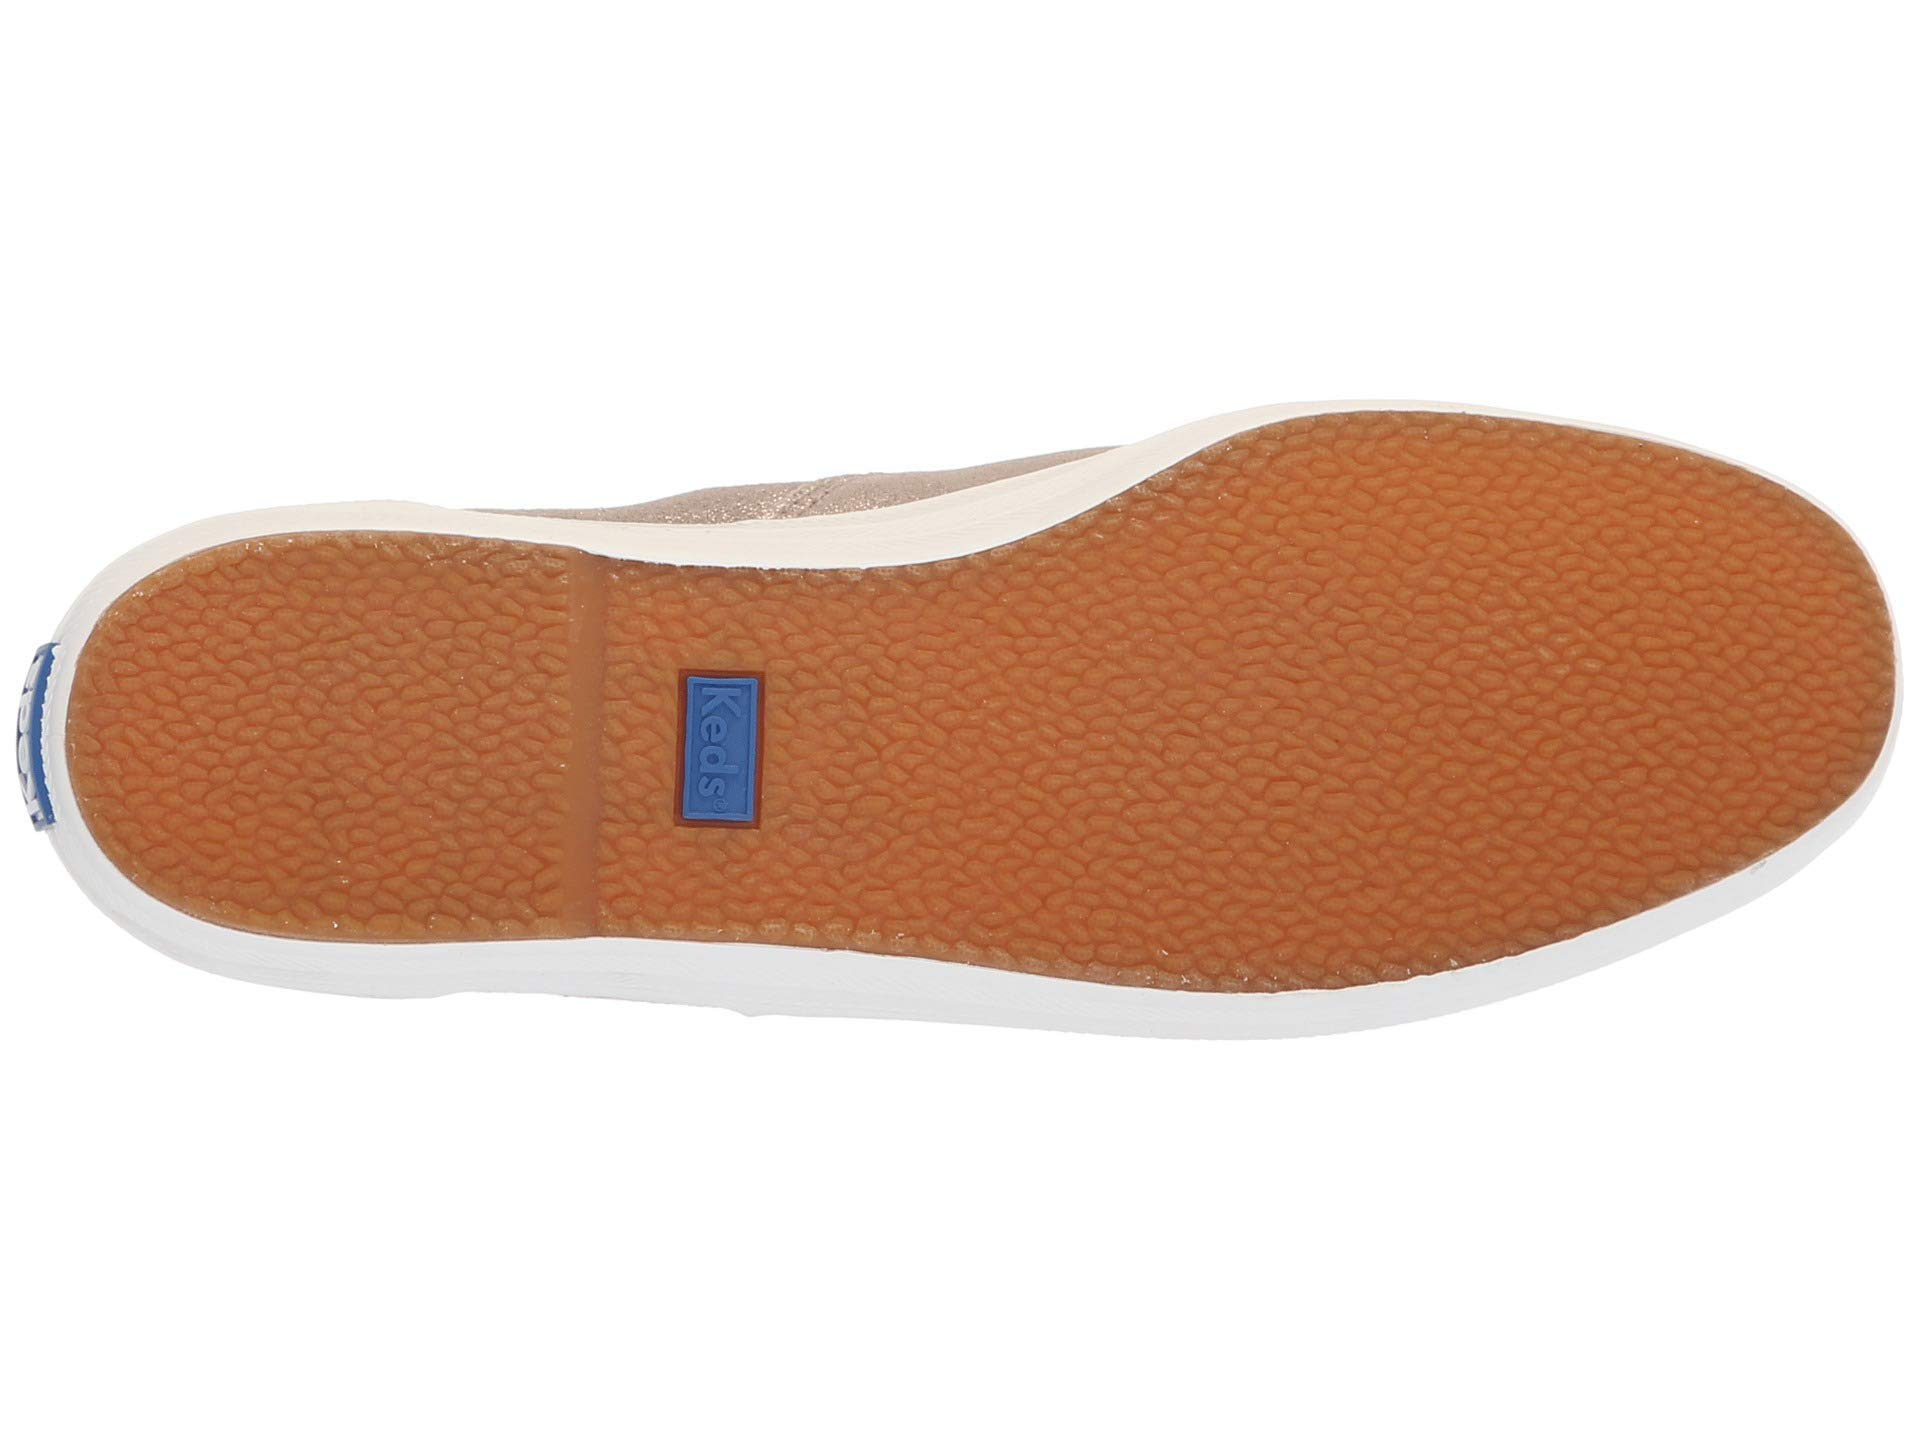line: (543, 549, 629, 942)
other: (1185, 557, 1725, 867), (543, 549, 629, 942)
quad: (676, 669, 763, 824)
text: (676, 669, 763, 824)
